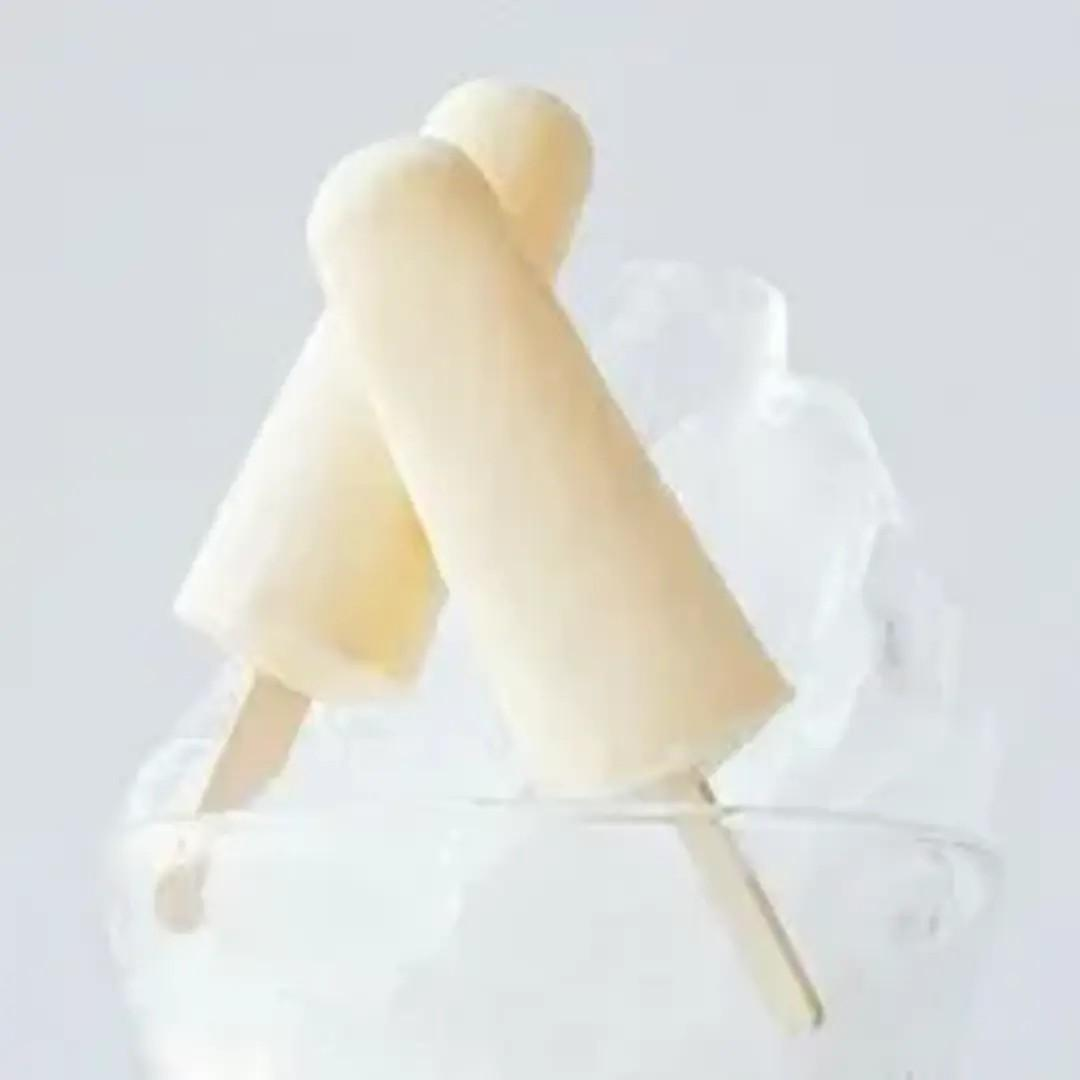Kulfi: (295, 134, 789, 817), (167, 72, 595, 713)
